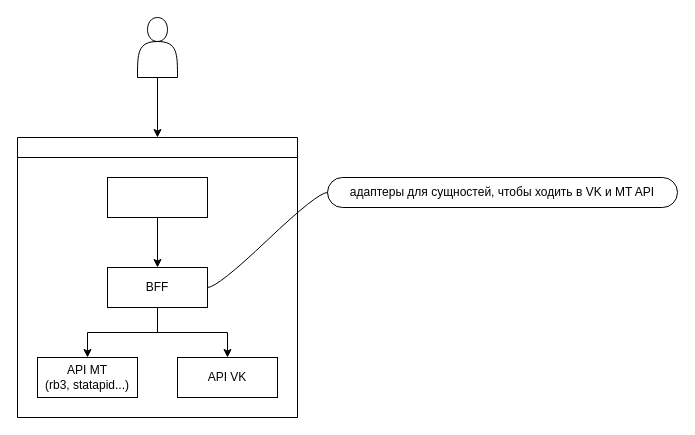
Some shapes in this 695 by 435 pixel diagram are drawn without their labels. The shapes that lost their labels are listed below. From the top down, each one's box as (x1, y1, x2, y2) in pixels, then its label:
(106, 176, 208, 218): UI
(16, 136, 298, 418): Интерфейс рекламодателя
